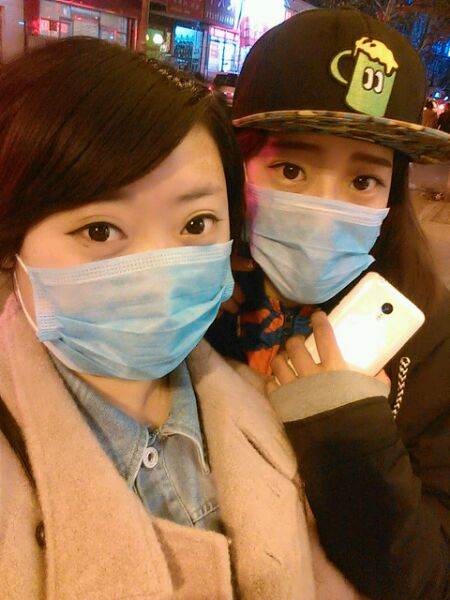face_mask: (34, 118, 229, 377), (249, 105, 395, 308)
